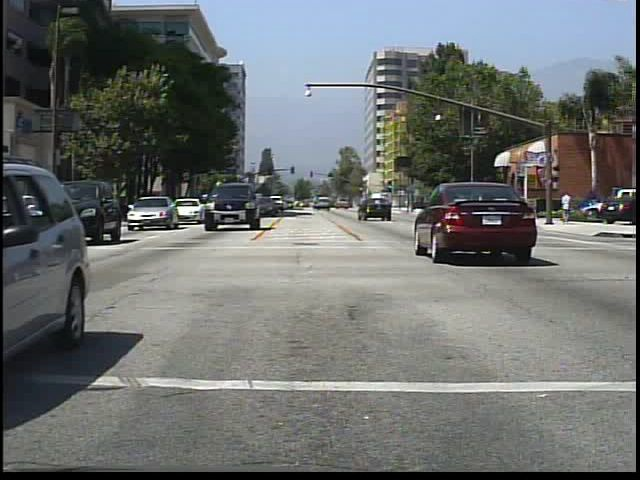person: (558, 188, 576, 224), (512, 190, 529, 227)
